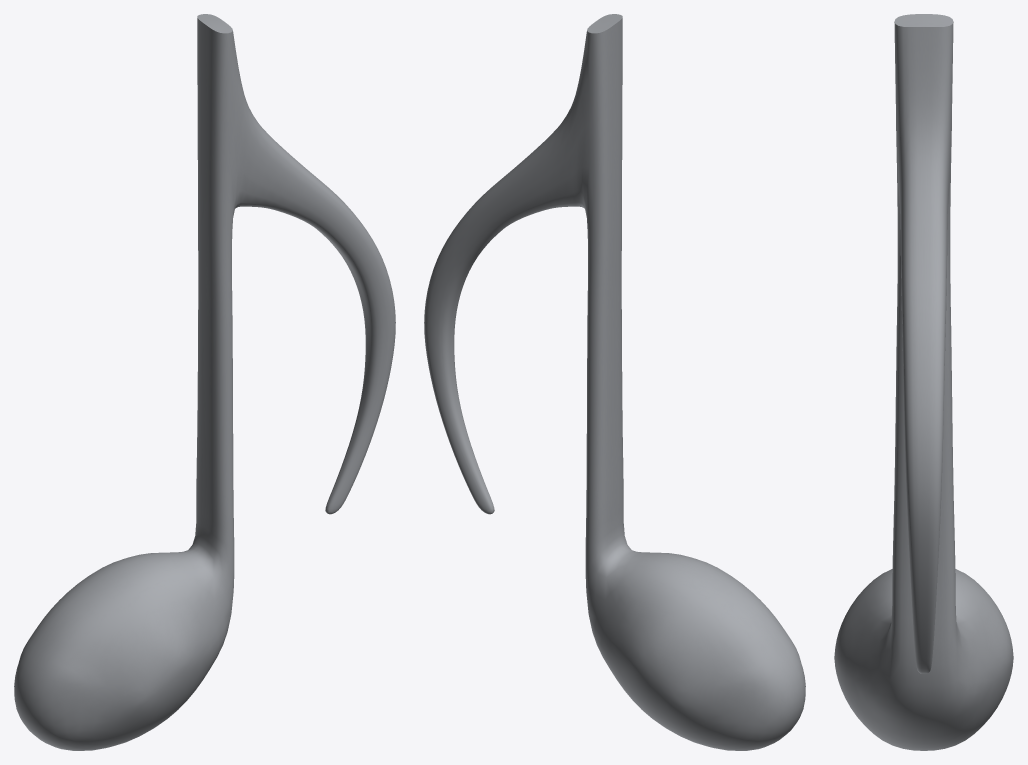
File: note.obj
3 views of the same model, side by side, from view 1: azimuth 30°, elevation 25°; view 2: azimuth 150°, elevation 25°; view 3: azimuth 270°, elevation 25° (orthographic). The views are drawn at different scales.
Visible parts, largest first — view 1: note; view 2: note; view 3: note.
Part boxes in pixels (<box>): note: <box>14,14,395,750</box>; note: <box>424,14,805,750</box>; note: <box>834,14,1013,750</box>.
Bounding box in the file's own units: 0.138 × 0.246 × 0.051.
1 material, 1 textured.
